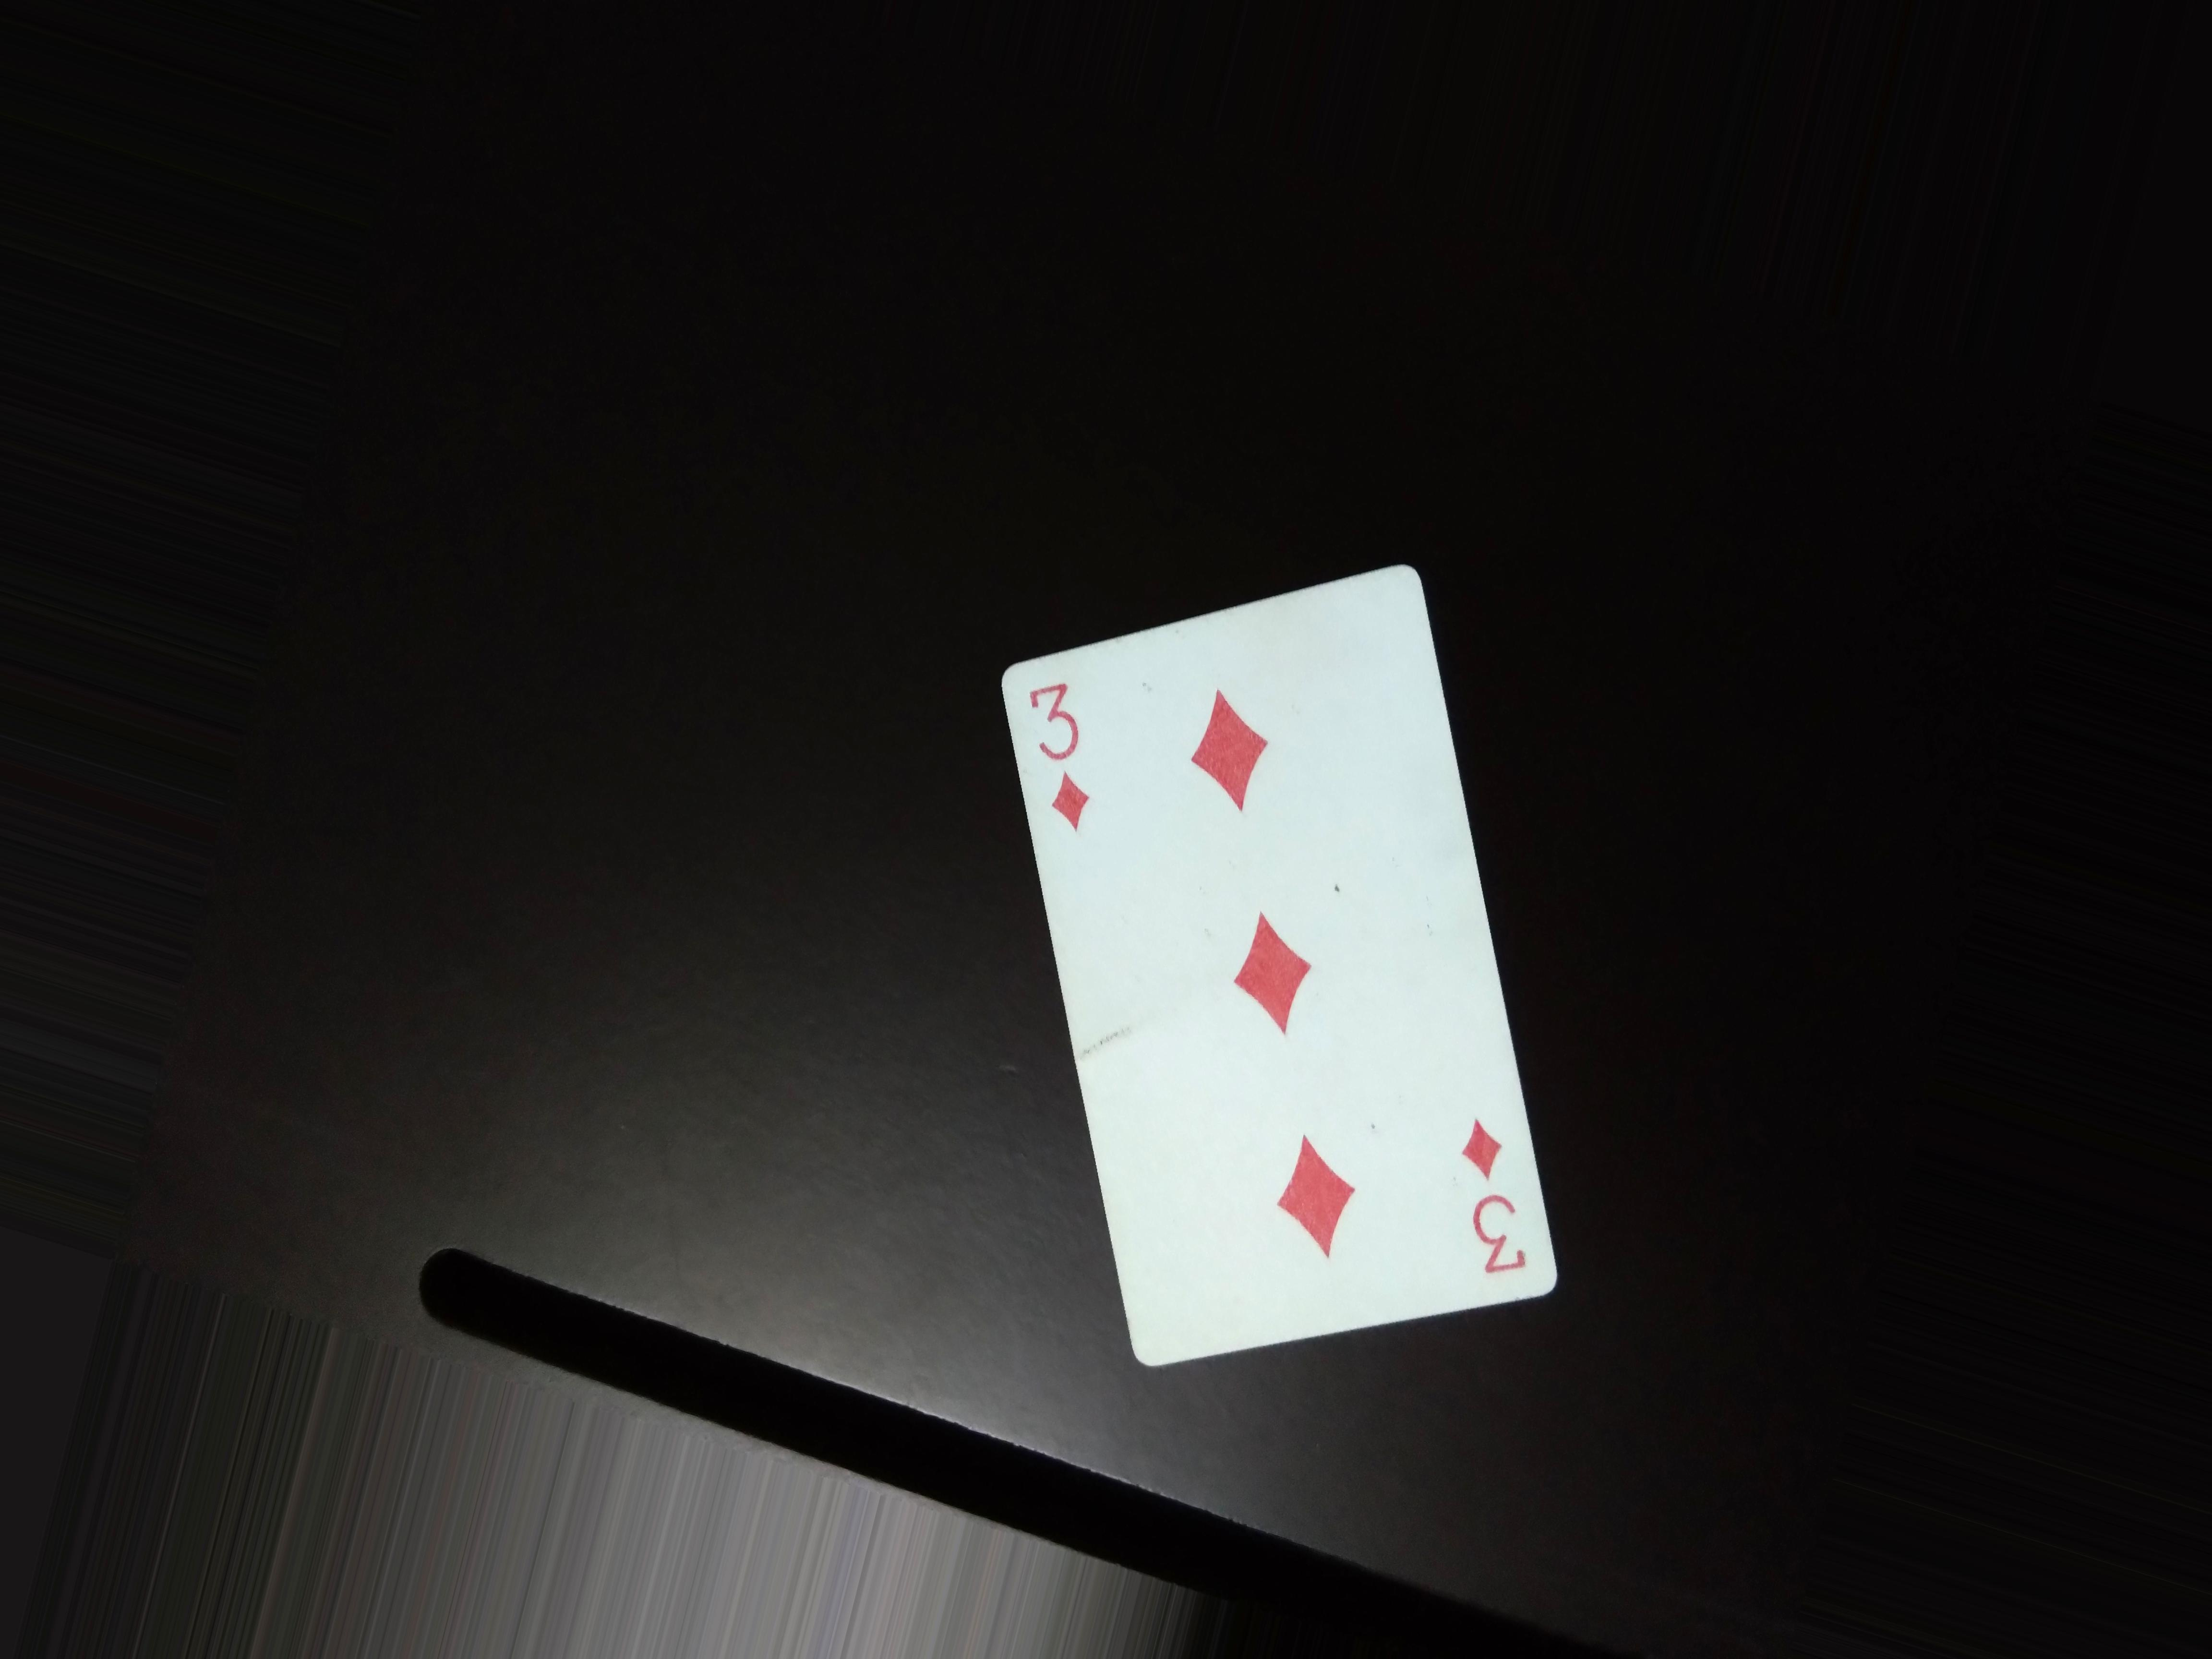3D: (1430, 1107, 1550, 1290)
